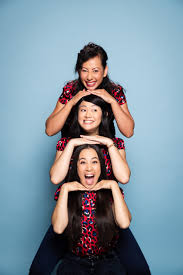asian_female: (69, 146, 115, 197)
